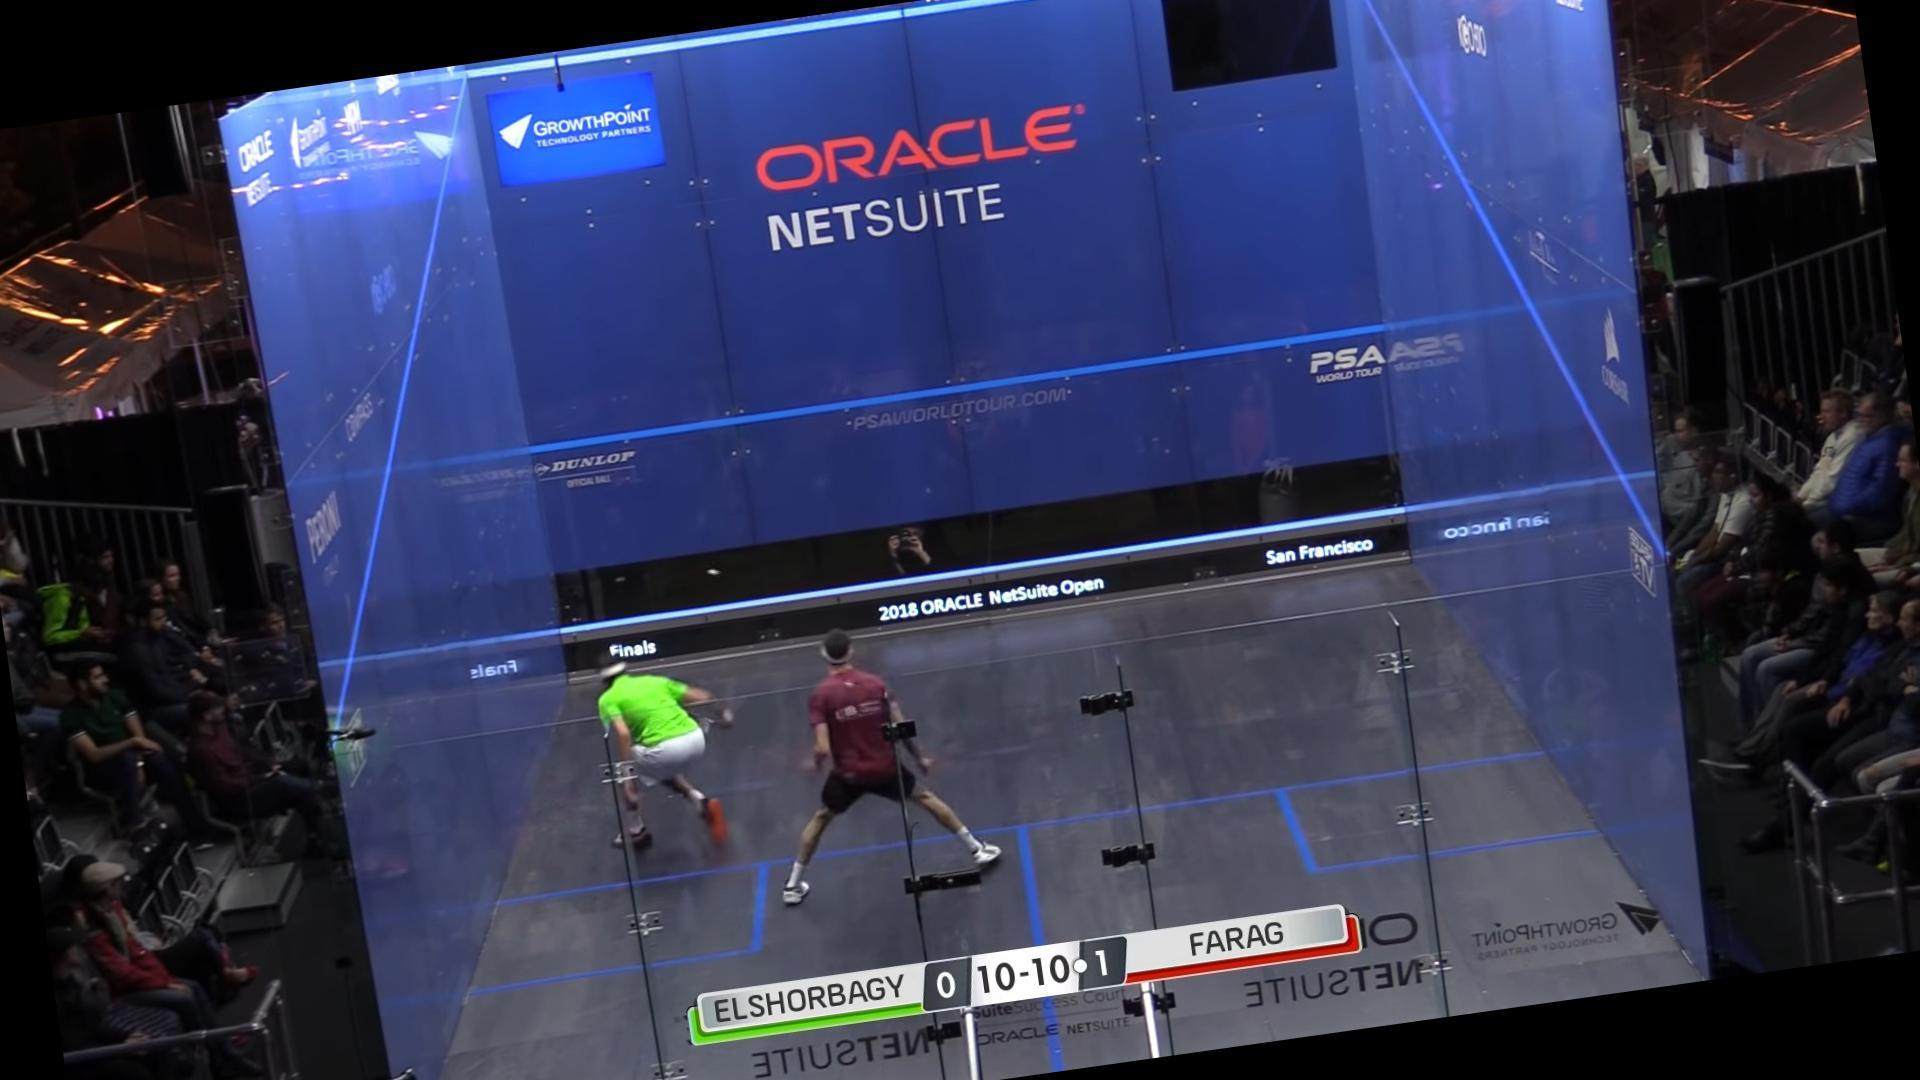Squash-Ball: (699, 562, 725, 583)
